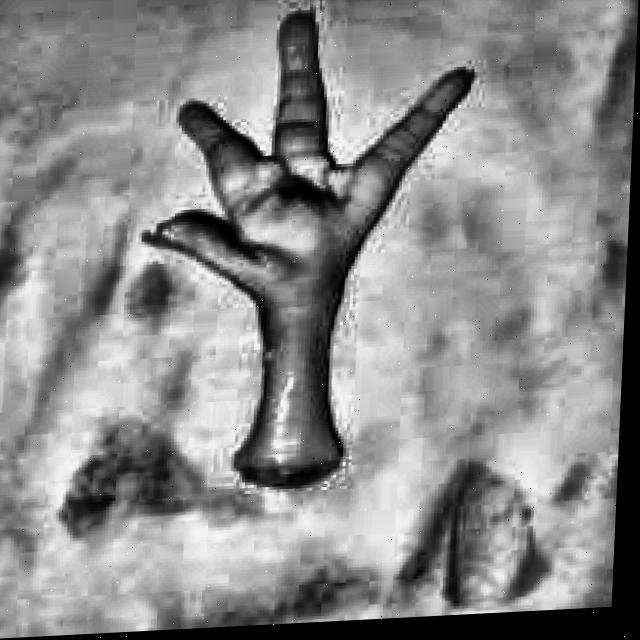Bumble foot: (264, 169, 338, 218)
